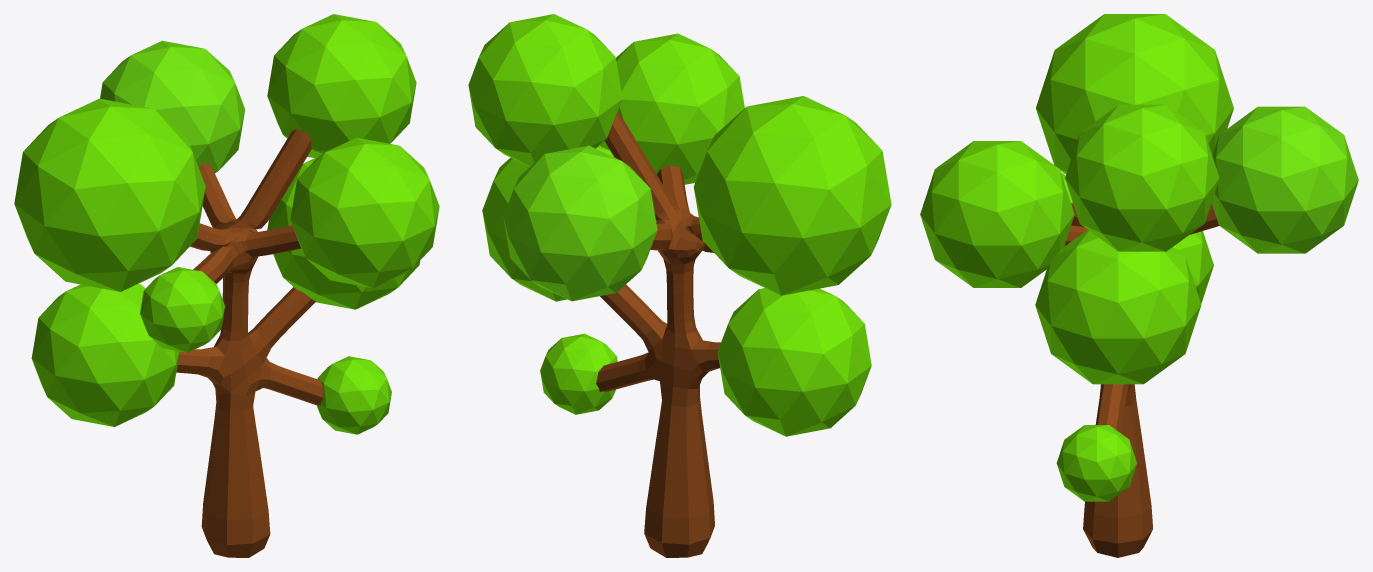
The picture shows the model from 3 angles, left to right: view 1: azimuth 30°, elevation 25°; view 2: azimuth 150°, elevation 25°; view 3: azimuth 270°, elevation 25°; orthographic projection. The views are drawn at different scales.
Visible parts, largest first — view 1: Icosphere.002, Plane, Icosphere.004, Icosphere.007, Icosphere.001, Icosphere.005, Icosphere.006, Icosphere.003, Icosphere; view 2: Icosphere.002, Plane, Icosphere.005, Icosphere.001, Icosphere.007, Icosphere.004, Icosphere.003, Icosphere; view 3: Icosphere, Icosphere.002, Icosphere.007, Icosphere.004, Icosphere.005, Plane, Icosphere.003, Icosphere.001.
Boxes of the visible parts, x1=… form: Icosphere.002: x1=14, y1=98, x2=205, y2=291; Plane: x1=176, y1=129, x2=323, y2=557; Icosphere.004: x1=290, y1=137, x2=439, y2=288; Icosphere.007: x1=267, y1=14, x2=416, y2=158; Icosphere.001: x1=31, y1=284, x2=179, y2=426; Icosphere.005: x1=100, y1=40, x2=245, y2=173; Icosphere.006: x1=140, y1=267, x2=224, y2=352; Icosphere.003: x1=316, y1=356, x2=391, y2=434; Icosphere: x1=267, y1=158, x2=420, y2=309; Icosphere.002: x1=693, y1=96, x2=891, y2=295; Plane: x1=596, y1=111, x2=720, y2=557; Icosphere.005: x1=503, y1=145, x2=657, y2=301; Icosphere.001: x1=717, y1=288, x2=871, y2=436; Icosphere.007: x1=468, y1=14, x2=622, y2=166; Icosphere.004: x1=599, y1=33, x2=744, y2=184; Icosphere.003: x1=540, y1=333, x2=617, y2=414; Icosphere: x1=482, y1=145, x2=614, y2=301; Icosphere: x1=1035, y1=230, x2=1201, y2=384; Icosphere.002: x1=1036, y1=14, x2=1233, y2=174; Icosphere.007: x1=1065, y1=104, x2=1219, y2=251; Icosphere.004: x1=920, y1=141, x2=1074, y2=287; Icosphere.005: x1=1211, y1=106, x2=1358, y2=253; Plane: x1=1064, y1=203, x2=1218, y2=557; Icosphere.003: x1=1056, y1=425, x2=1136, y2=501; Icosphere.001: x1=1173, y1=231, x2=1213, y2=303.
Size of the model in its own units: 573 by 719 by 568.
